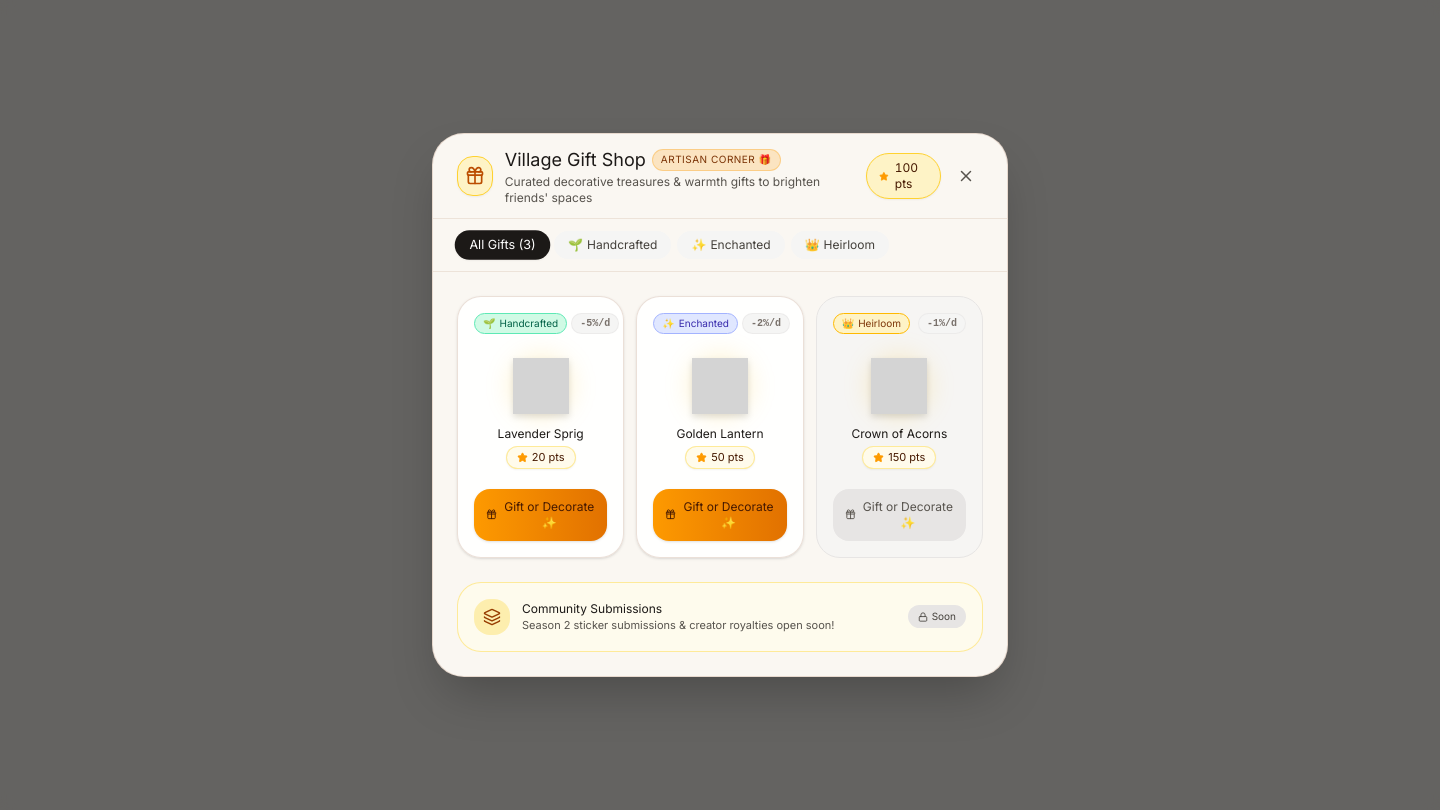
Test case: StickerStoreDrawer Component (Village Gift Shop & Positivity Economy) › completes gift exchange, plays cozy chime, updates balance, and presents success feedback
expect the heading "Lavender Sprig" is shown: met, box [498, 426, 584, 442]
Click the button "Gift or Decorate ✨" below "20".
click(541, 515)  # box [474, 489, 607, 541]
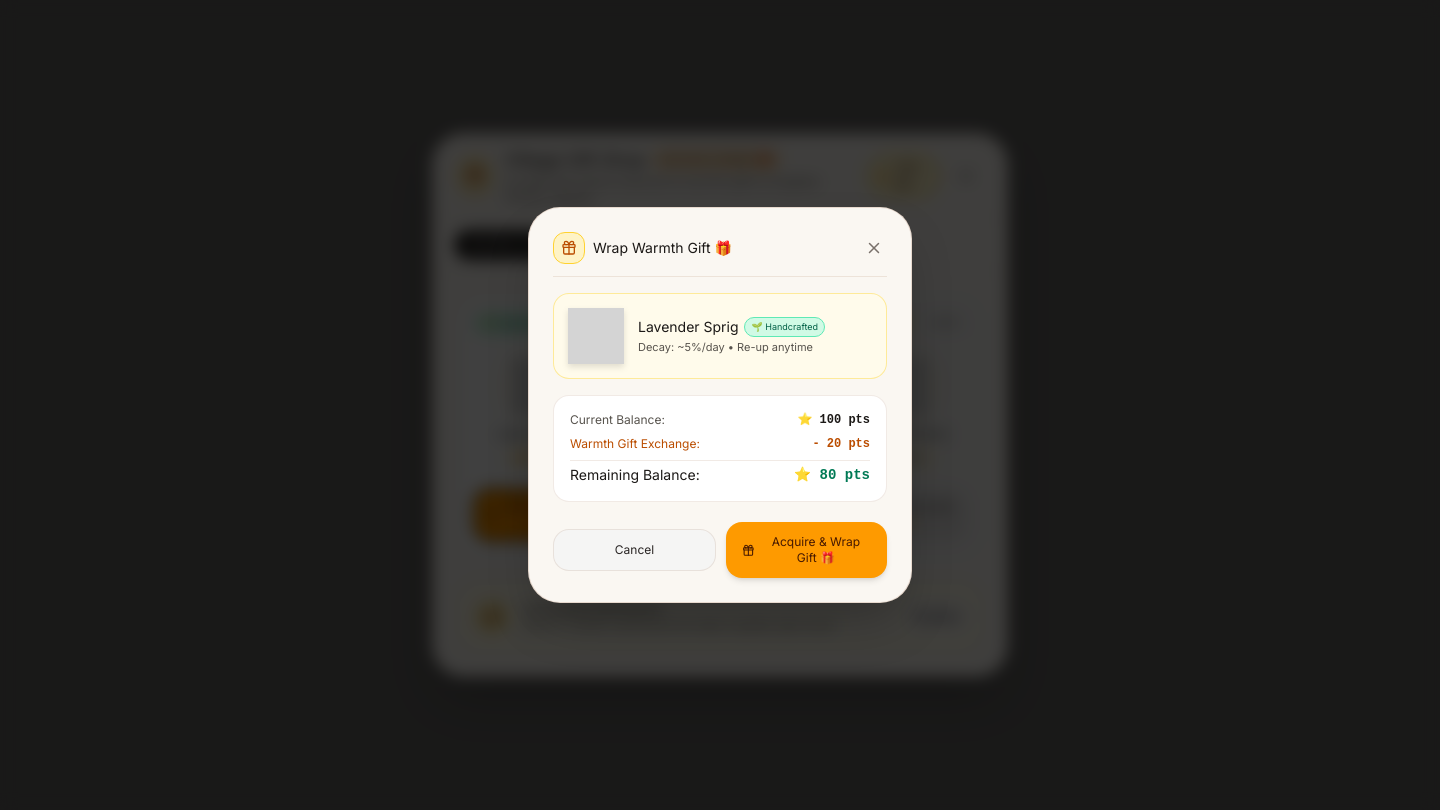
Click the button "Acquire & Wrap Gift 🎁".
click(806, 550)  # box [726, 522, 887, 578]
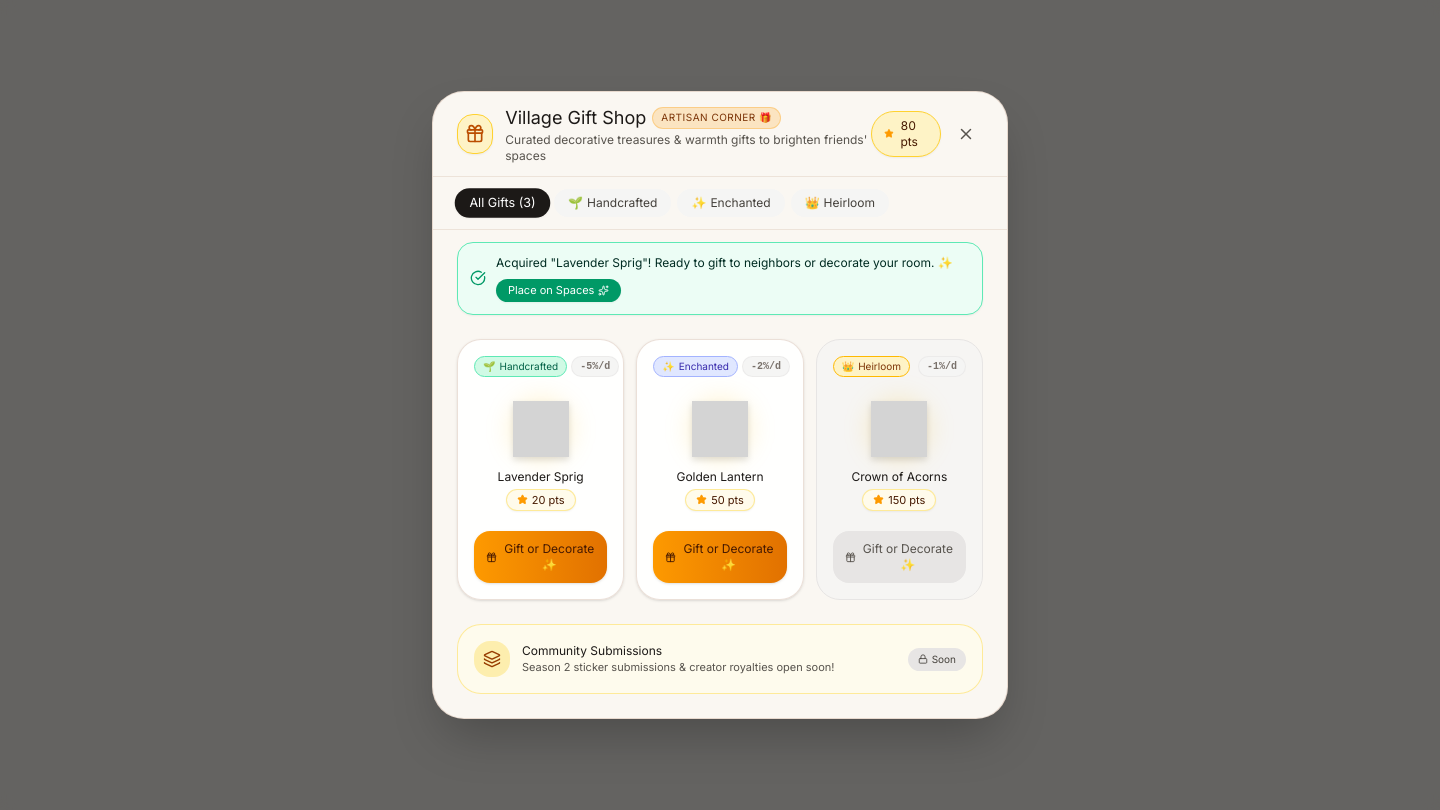
expect the text "Acquired \"Lavender Sprig\"! Ready to gift to neighbors" is shown: met, box [496, 255, 953, 270]
